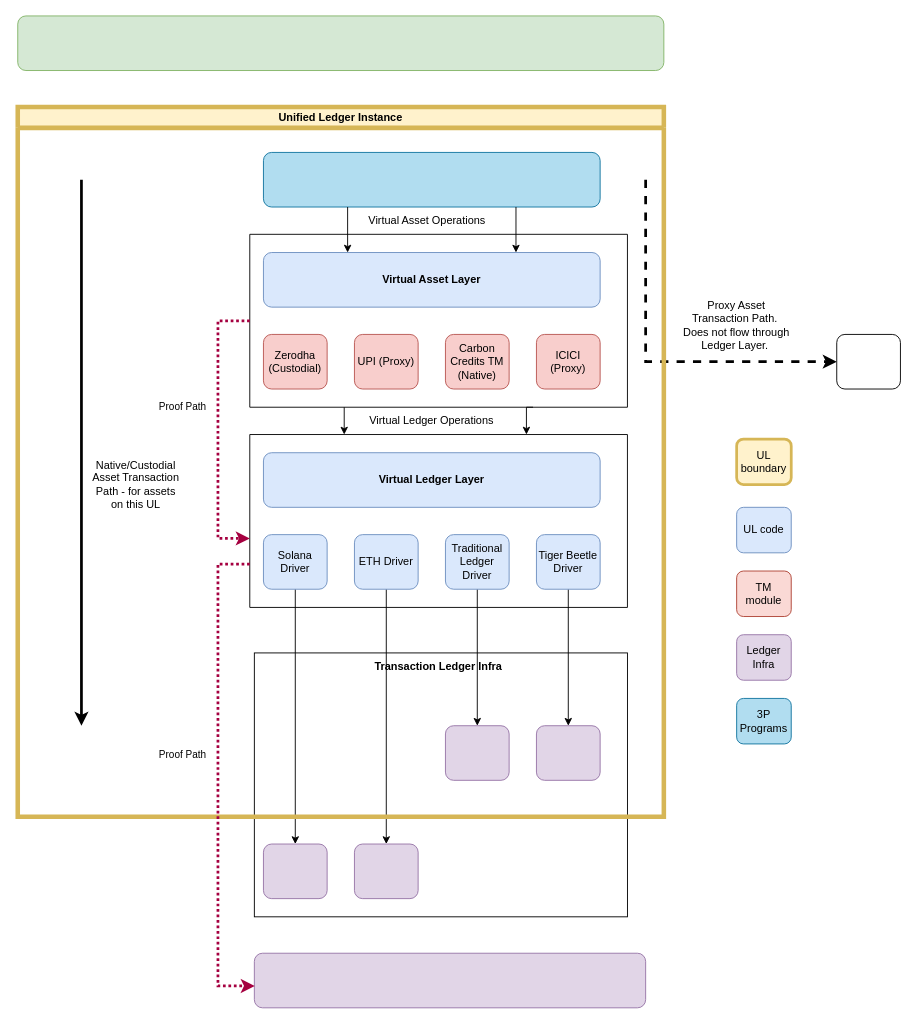
This 916x1024 diagram has some shape labels left out. The shapes that lost their labels are listed below. From the top down, each one's centre as x and y in pixels, then its label:
[340,43]: Application Layer
[431,179]: Programs/Workflows
[868,361]: ICICI Core Banking
[477,752]: Traditional Ledger
[568,752]: Tiger Beetle
[295,871]: Solana
[386,871]: ETH
[449,980]: Immutable Proof Store
